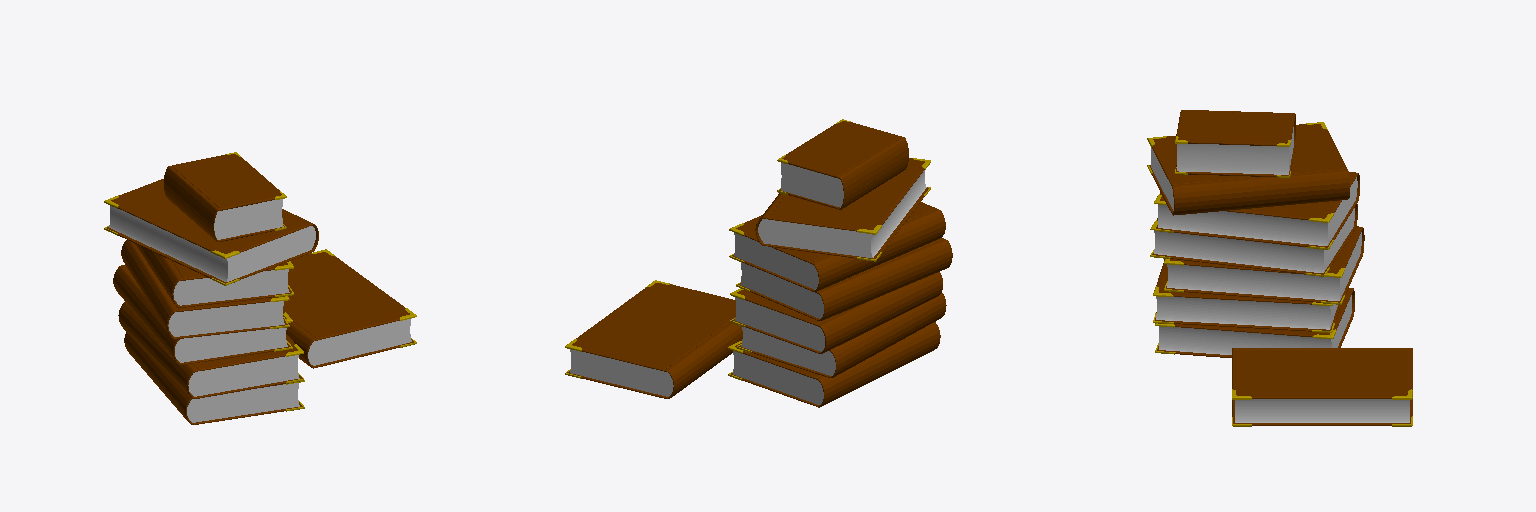
File: books.obj
3 renders of one model, left to right at view 1: azimuth 30°, elevation 25°; view 2: azimuth 150°, elevation 25°; view 3: azimuth 270°, elevation 25°, orthographic.
Parts seen in each view (by area): view 1: Line043, Line044, Line034, Line032, Line008, Line022, Line002, Line010, Line028, Line038, Line016, Line020 (+4 smaller); view 2: Line043, Line044, Line032, Line020, Line014, Line026, Line034, Line001, Line008, Line038, Line002, Line016 (+4 smaller); view 3: Line043, Line032, Line016, Line022, Line028, Line010, Line038, Line044, Line002, Line046, Line026, Line014 (+3 smaller).
Part boxes in pixels (x1,y1,x2,y2): Line043: (283, 252, 413, 368); Line044: (164, 154, 284, 241); Line034: (109, 206, 315, 281); Line032: (107, 179, 318, 283); Line008: (118, 302, 302, 398); Line022: (168, 301, 284, 336); Line002: (187, 383, 299, 422); Line010: (188, 355, 299, 396); Line028: (173, 269, 289, 305); Line038: (308, 318, 411, 365); Line016: (175, 328, 287, 362); Line020: (121, 240, 287, 338); Line043: (567, 283, 742, 398); Line044: (779, 121, 908, 209); Line032: (755, 158, 928, 258); Line020: (738, 238, 952, 320); Line014: (732, 272, 942, 353); Line026: (732, 202, 945, 291); Line034: (758, 170, 926, 257); Line001: (731, 322, 940, 407); Line008: (738, 293, 946, 377); Line038: (570, 349, 673, 396); Line002: (733, 351, 823, 404); Line016: (735, 297, 824, 351); Line043: (1232, 348, 1412, 425); Line032: (1149, 124, 1349, 215); Line016: (1167, 232, 1361, 300); Line022: (1154, 208, 1354, 272); Line028: (1158, 177, 1357, 245); Line010: (1156, 297, 1337, 329); Line038: (1235, 399, 1409, 422); Line044: (1176, 110, 1295, 176); Line002: (1159, 295, 1351, 354); Line046: (1177, 127, 1293, 174); Line026: (1156, 172, 1359, 247); Line014: (1166, 226, 1364, 302).
Bounding box in the file's own units: 143 × 104 × 120.